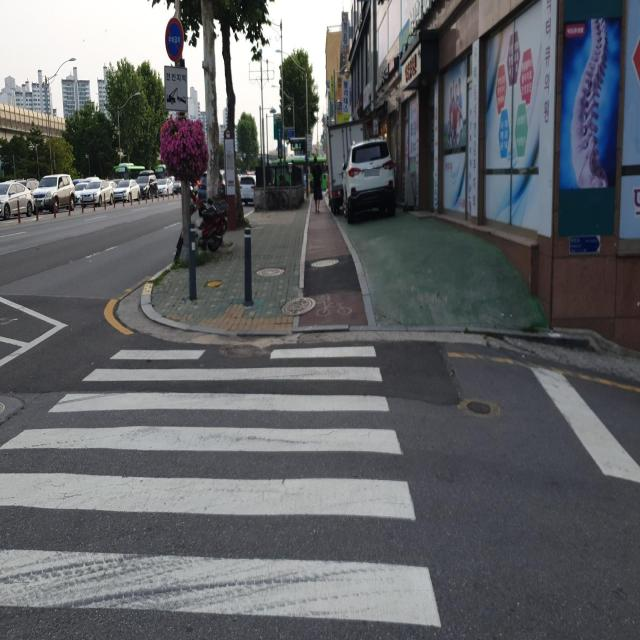횡단보도: (0, 341, 444, 634)
